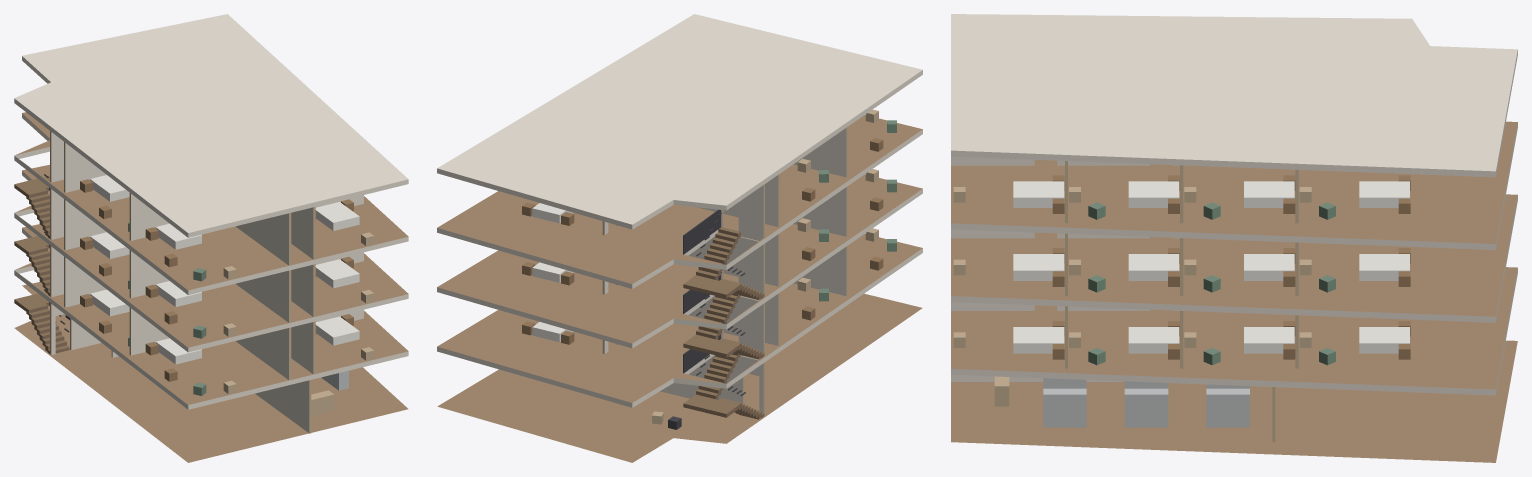
File: interior.glb
3 views of the same model, side by side, from view 1: azimuth 30°, elevation 25°; view 2: azimuth 150°, elevation 25°; view 3: azimuth 270°, elevation 25° (orthographic). The views are drawn at different scales.
Parts seen in each view (by area): view 1: slabs, partitions, stair, coarse-s1, coarse-s2, coarse-s3, coarse-s0; view 2: slabs, partitions, stair, coarse-s2, coarse-s1, coarse-s3; view 3: slabs, coarse-s2, coarse-s3, coarse-s1, coarse-s0, partitions.
Part boxes in pixels (x1,y1,x2,y2): slabs: (14, 14, 408, 462); partitions: (50, 131, 363, 433); stair: (14, 174, 69, 353); coarse-s1: (80, 289, 374, 395); coarse-s2: (80, 232, 374, 338); coarse-s3: (80, 175, 374, 281); coarse-s0: (65, 315, 348, 415); slabs: (437, 14, 922, 462); partitions: (602, 127, 847, 415); stair: (683, 209, 764, 419); coarse-s2: (522, 169, 896, 285); coarse-s1: (522, 228, 896, 344); coarse-s3: (522, 109, 896, 225); slabs: (951, 14, 1517, 462); coarse-s2: (953, 248, 1410, 292); coarse-s3: (953, 175, 1410, 219); coarse-s1: (953, 321, 1410, 365); coarse-s0: (994, 376, 1249, 427); partitions: (951, 156, 1298, 442).
Size of the model in its own units: 14.62 by 12.65 by 22.25.
